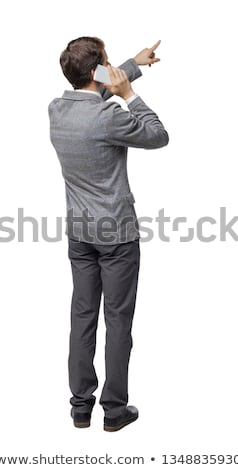phone: (92, 61, 128, 92)
